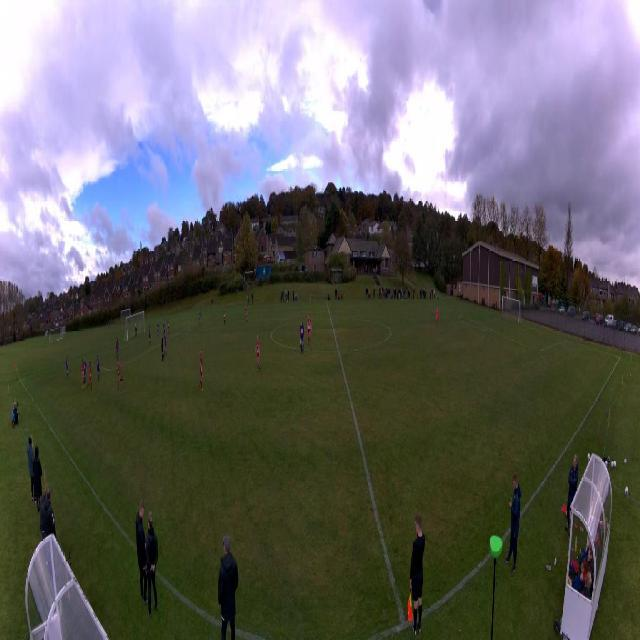player: (254, 335, 261, 372), (299, 318, 305, 353), (306, 314, 312, 345), (199, 351, 203, 390), (118, 359, 123, 386), (82, 360, 86, 388), (160, 333, 164, 360), (88, 363, 92, 389), (65, 357, 69, 379), (163, 335, 167, 357), (83, 359, 87, 381), (435, 306, 439, 326), (97, 356, 100, 382), (244, 306, 248, 324), (149, 327, 152, 346), (167, 318, 170, 336), (223, 307, 226, 325), (115, 338, 118, 355), (157, 323, 160, 339), (135, 322, 138, 338), (163, 322, 166, 337), (199, 311, 201, 327)
